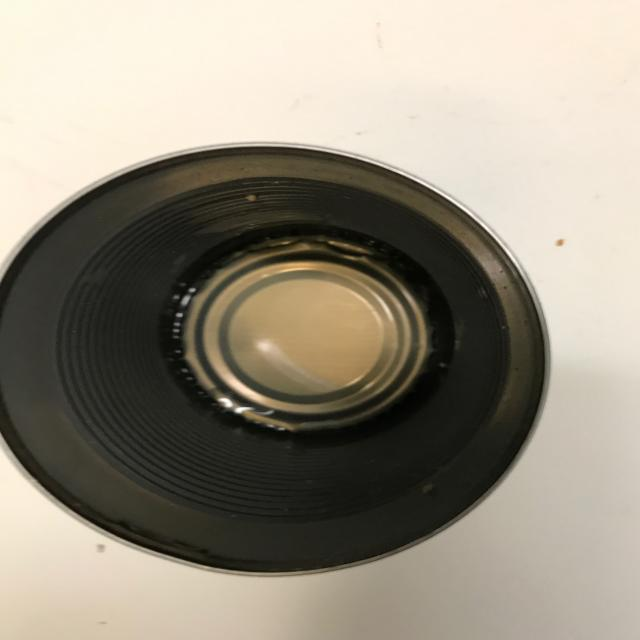metal: (0, 140, 551, 576)
